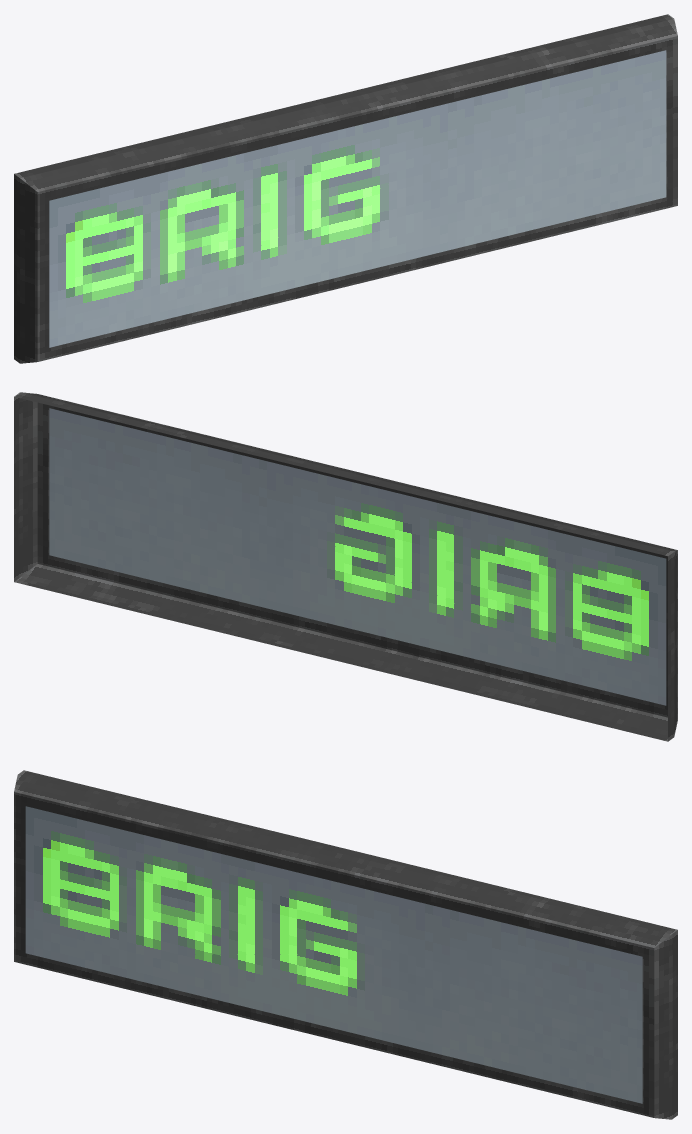
The model's file is small_brig.glb.
The picture shows the model from 3 angles, top to bottom: view 1: azimuth 30°, elevation 25°; view 2: azimuth 150°, elevation 25°; view 3: azimuth 330°, elevation 25°; orthographic projection.
Visible parts, largest first — view 1: Sign-Small_Brig; view 2: Sign-Small_Brig; view 3: Sign-Small_Brig.
Part boxes in pixels (x1,y1,x2,y2): Sign-Small_Brig: [14, 14, 677, 363]; Sign-Small_Brig: [14, 392, 677, 741]; Sign-Small_Brig: [14, 770, 677, 1119].
Bounding box in the file's own units: 9.3 × 2.52 × 0.4128.
Materials: 1 (1 with a texture image).
